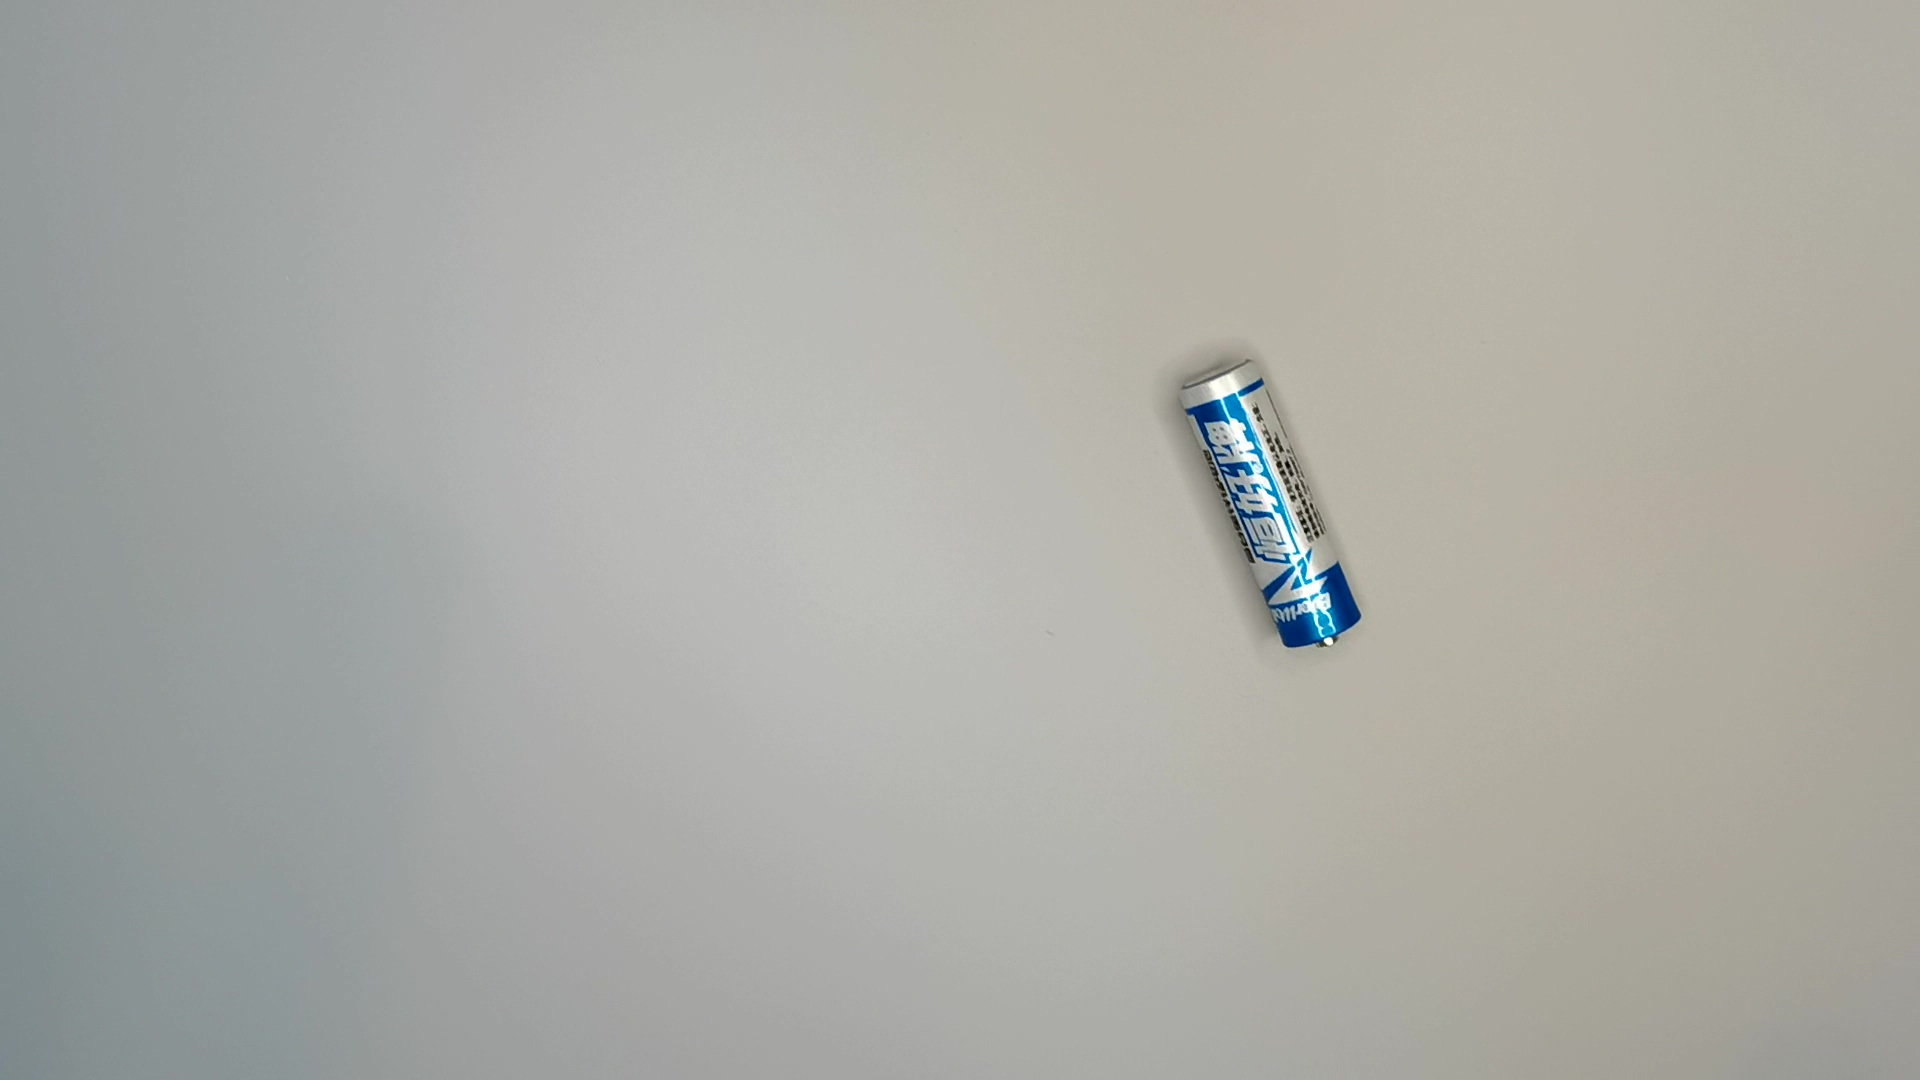battery: (1178, 353, 1371, 653)
